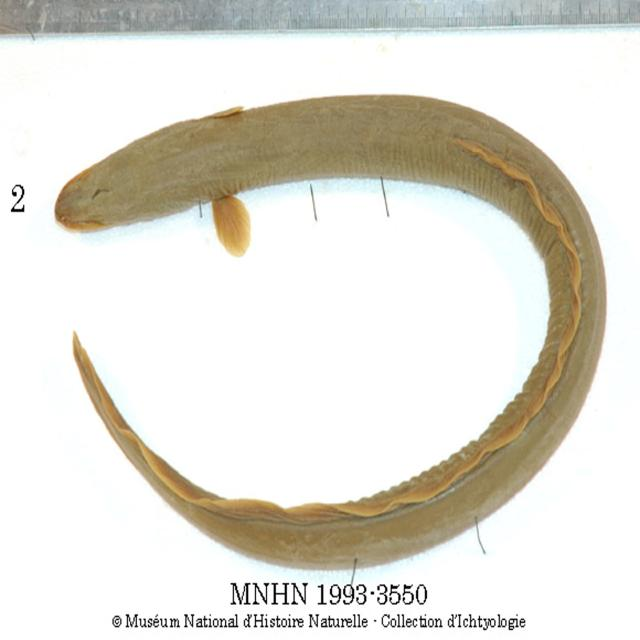Freshwater-Eel: (27, 31, 603, 590)
